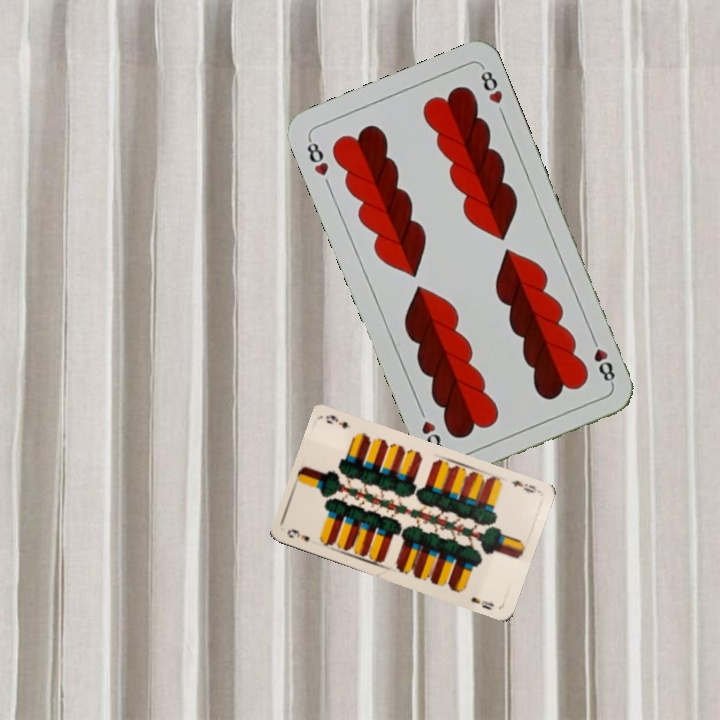E9: (507, 476, 541, 496), (283, 525, 312, 544)
H8: (587, 331, 618, 388), (302, 134, 331, 179)
